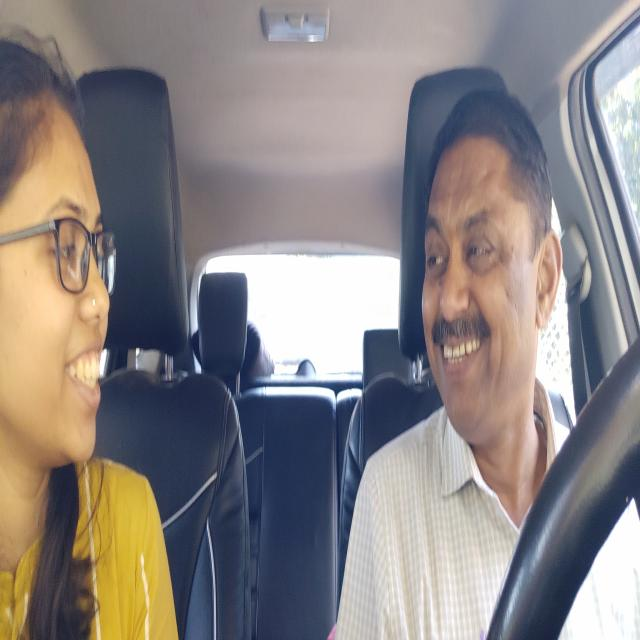LeftRight: (412, 88, 569, 461)
person: (0, 41, 118, 482)
talking: (430, 314, 491, 382), (61, 343, 108, 418)
